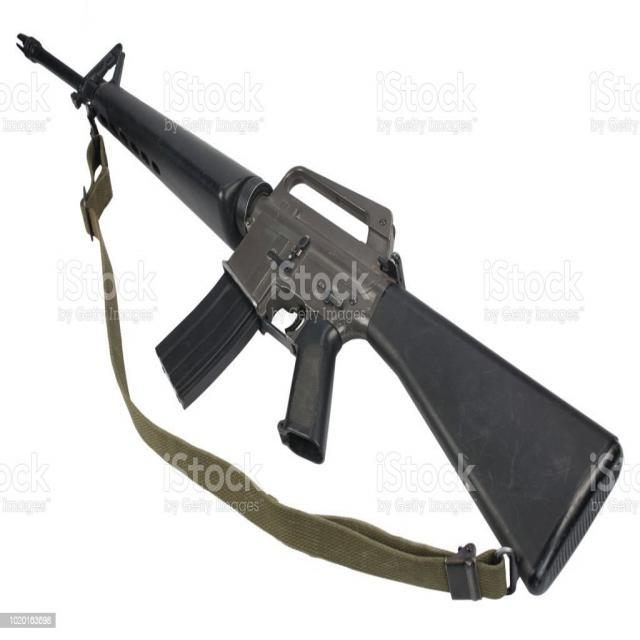m16: (3, 8, 629, 622)
